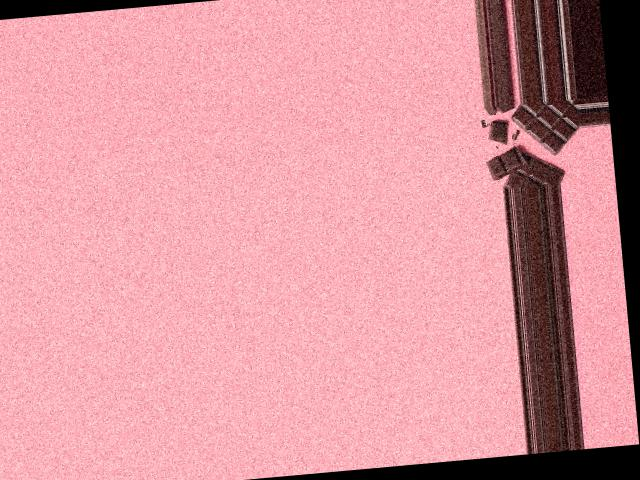chocolate: (487, 99, 585, 184)
